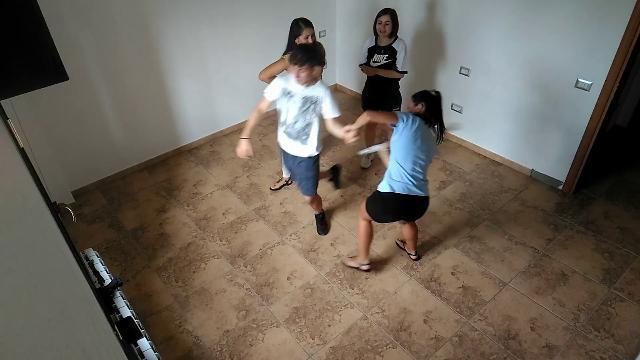non-violence: (354, 7, 410, 171)
violence: (236, 42, 444, 274)
